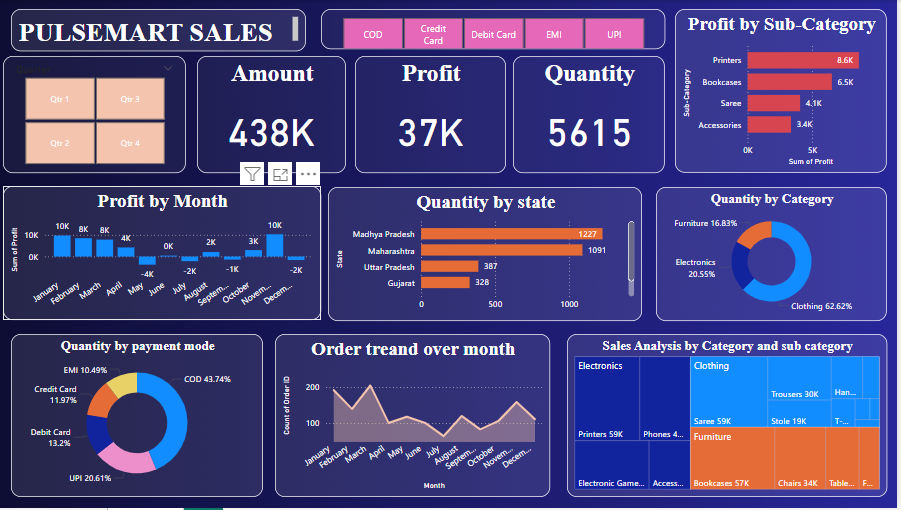

The page's visual inventory and layout, read from the dashboard file:
{"tool":"powerbi","page":{"name":"Page 1","canvas":[1280,720],"ordinal":0},"visuals":[{"type":"card","title":"Amount","fields":{"Values":["Sum(Details (1).Amount)"]},"box":[289.1,79.4,211.2,165.8],"z":0},{"type":"card","title":"Profit","fields":{"Values":["Sum(Details (1).Profit)"]},"box":[513.1,79.4,214,165.8],"z":1000},{"type":"card","title":"Quantity","fields":{"Values":["Sum(Details (1).Quantity)"]},"box":[737,79.4,215.4,165.8],"z":2000},{"type":"barChart","title":" Profit by Sub-Category","fields":{"Category":["Details (1).Sub-Category"],"Y":["Sum(Details (1).Profit)"]},"box":[966.6,12.8,300.5,232.4],"z":3000},{"type":"columnChart","title":" Profit by Month","fields":{"Category":["Orders (3).Order Date.Variation.Date Hierarchy.Month"],"Y":["Sum(Details (1).Profit)"]},"box":[14.2,263.6,450.7,189.9],"z":4000},{"type":"barChart","title":" Quantity by state","fields":{"Category":["Orders (3).State"],"Y":["Sum(Details (1).Quantity)"]},"box":[474.8,265,445,189.9],"z":5000},{"type":"donutChart","title":"  Quantity by Category","fields":{"Category":["Details (1).Category"],"Y":["Sum(Details (1).Quantity)"]},"box":[939.7,265,327.4,189.9],"z":6000},{"type":"donutChart","title":"  Quantity by payment mode","fields":{"Y":["Sum(Details (1).Quantity)"],"Category":["Details (1).PaymentMode"]},"box":[25.5,473.4,357.2,231],"z":7000},{"type":"areaChart","title":"Order treand over month","fields":{"Category":["Orders (3).Order Date.Variation.Date Hierarchy.Month"],"Y":["CountNonNull(Details (1).Order ID)"]},"box":[399.7,473.4,389.8,231],"z":8000},{"type":"treemap","title":"Sales Analysis by Category and sub category","fields":{"Group":["Details (1).Category"],"Details":["Details (1).Sub-Category"],"Values":["Sum(Details (1).Amount)"]},"box":[813.5,473.4,453.5,231],"z":9000},{"type":"slicer","fields":{"Values":["Details (1).PaymentMode"]},"box":[464.9,12.8,487.6,56.7],"z":10000},{"type":"slicer","fields":{"Values":["Orders (3).Order Date.Variation.Date Hierarchy.Quarter"]},"box":[14.2,79.4,259.4,165.8],"z":11000},{"type":"textbox","box":[25.5,12.8,418.1,59.5],"z":12000}]}

Visuals, with their boxes in screenshot pixels (x1, y1, x2, y2), scaled from the page's 1280x720 canvas onto the 901x510 screenshot:
"Amount" card: detection(203, 56, 352, 174)
"Profit" card: detection(361, 56, 512, 174)
"Quantity" card: detection(519, 56, 670, 174)
" Profit by Sub-Category" barChart: detection(680, 9, 892, 174)
" Profit by Month" columnChart: detection(10, 187, 327, 321)
" Quantity by state" barChart: detection(334, 188, 647, 322)
"  Quantity by Category" donutChart: detection(661, 188, 892, 322)
"  Quantity by payment mode" donutChart: detection(18, 335, 269, 499)
"Order treand over month" areaChart: detection(281, 335, 556, 499)
"Sales Analysis by Category and sub category" treemap: detection(573, 335, 892, 499)
slicer - Details (1).PaymentMode: detection(327, 9, 670, 49)
slicer - Orders (3).Order Date.Variation.Date Hierarchy.Quarter: detection(10, 56, 193, 174)
textbox: detection(18, 9, 312, 51)
